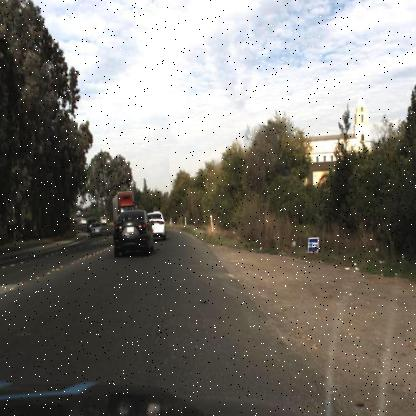car: (112, 206, 154, 258), (142, 202, 173, 245), (149, 208, 169, 240), (90, 221, 104, 238)
